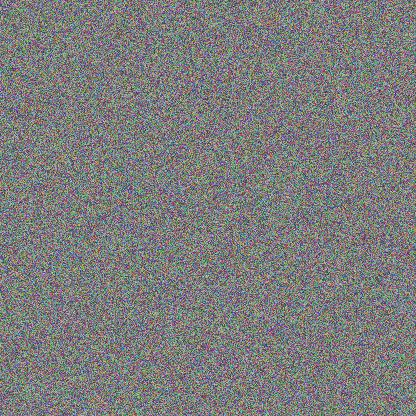empty: (59, 306, 111, 348)
occupied: (141, 252, 204, 305)
